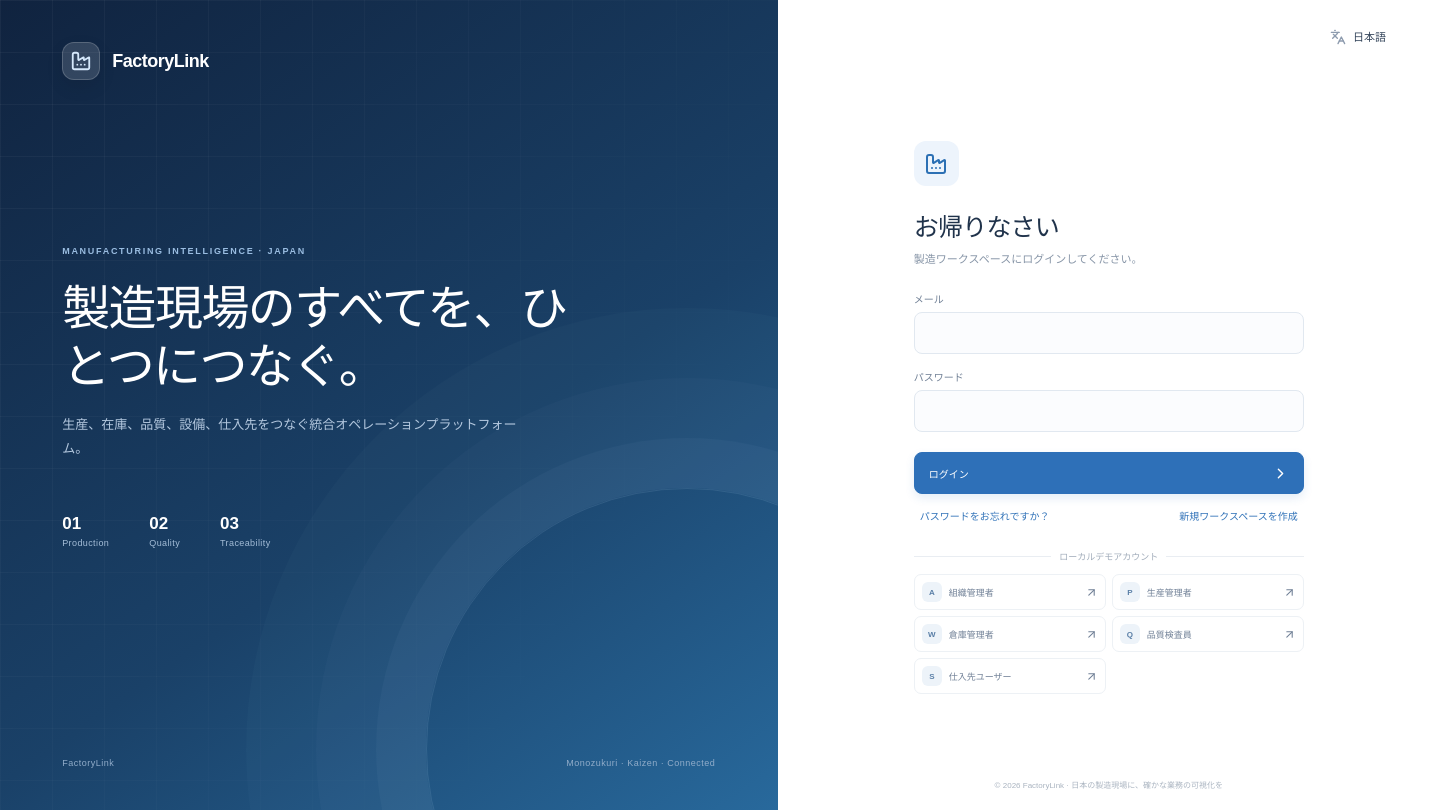
Test: FactoryLink application › shows the server authentication error without entering the application
Select "English" in the dropdown: [1376, 37] box [1353,31,1400,43]
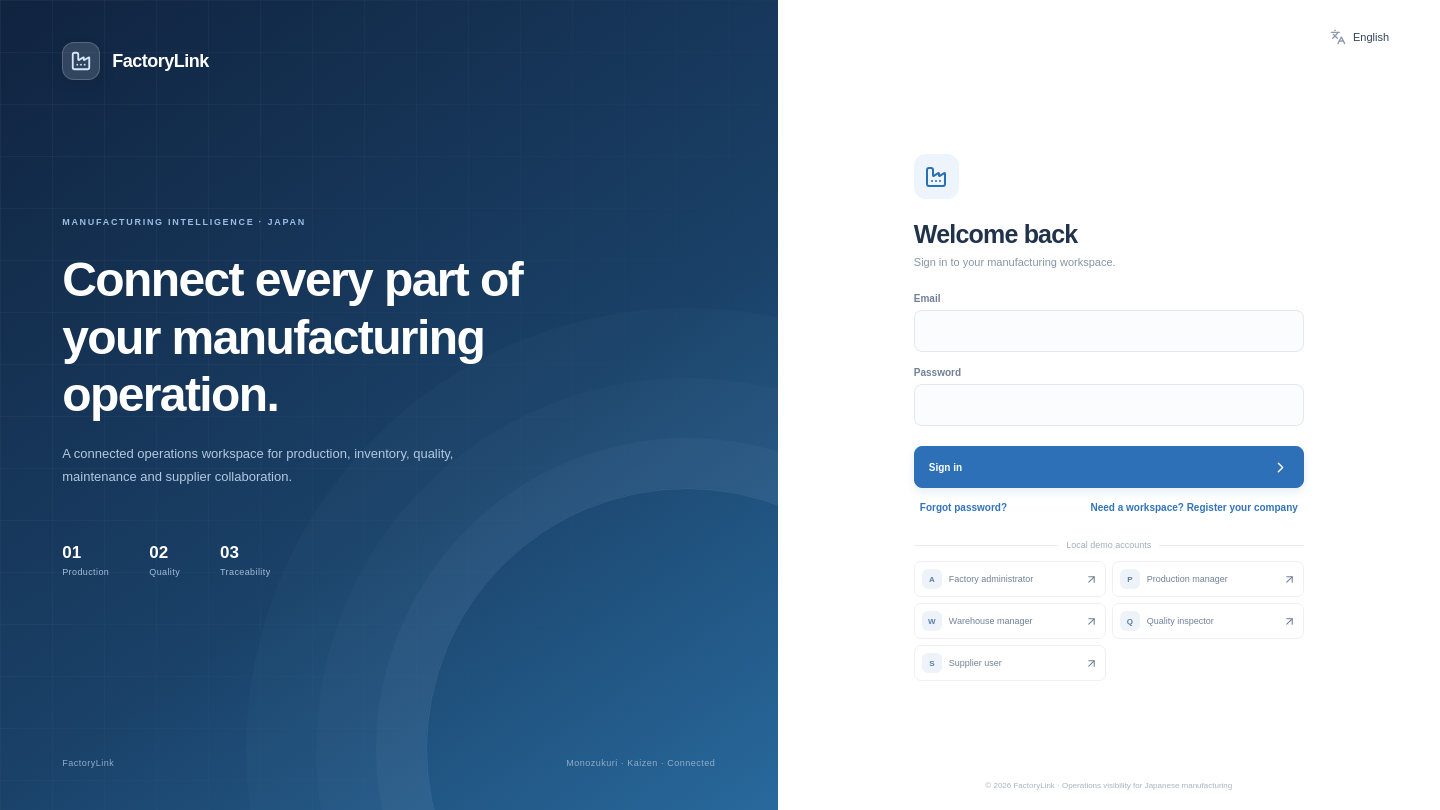
In the field labelled "Email": [1109, 331] box [914,310,1304,352], type "unknown@factorylink.jp"
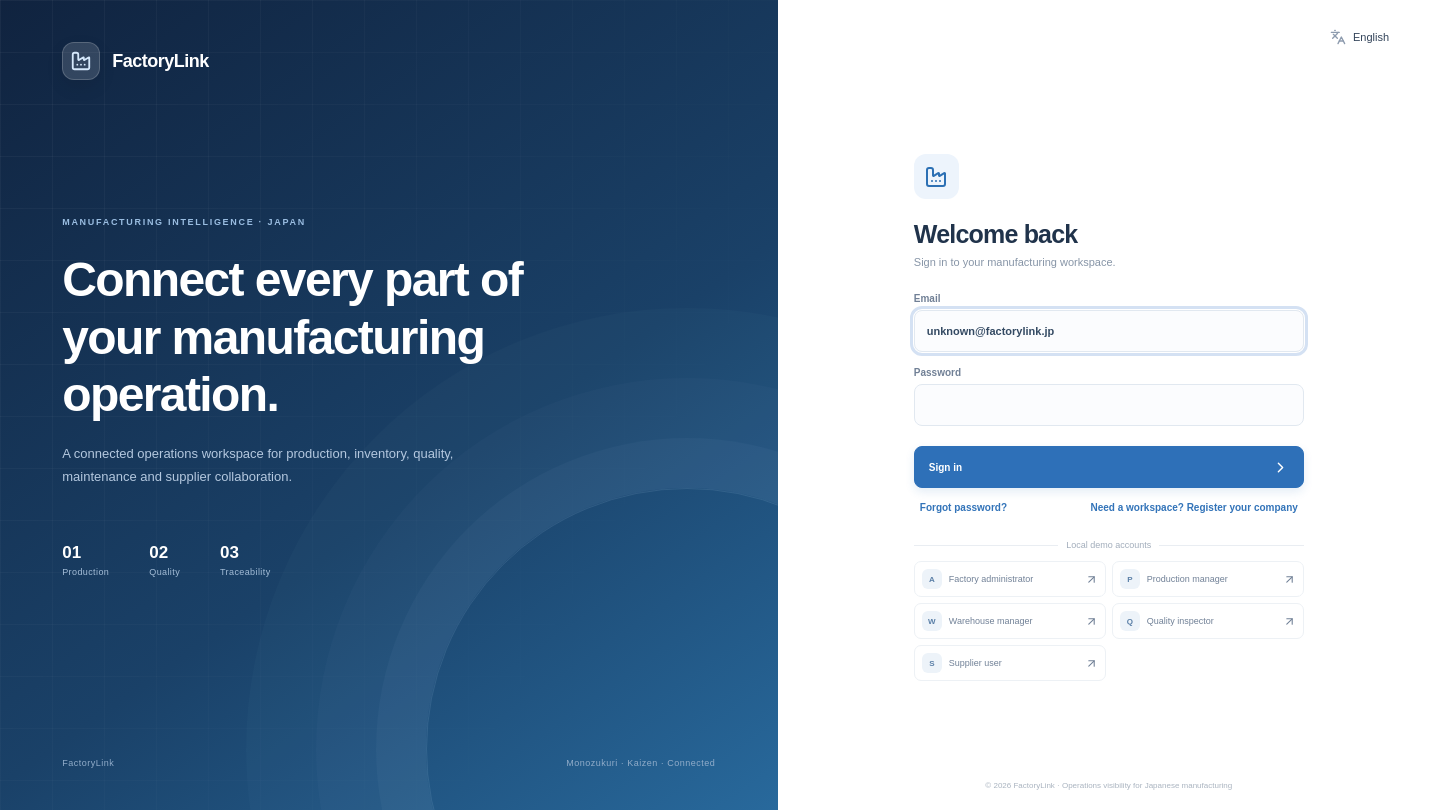
In the password field labelled "Password": [1109, 405] box [914,384,1304,426], type "Wrong-Password-2026!"
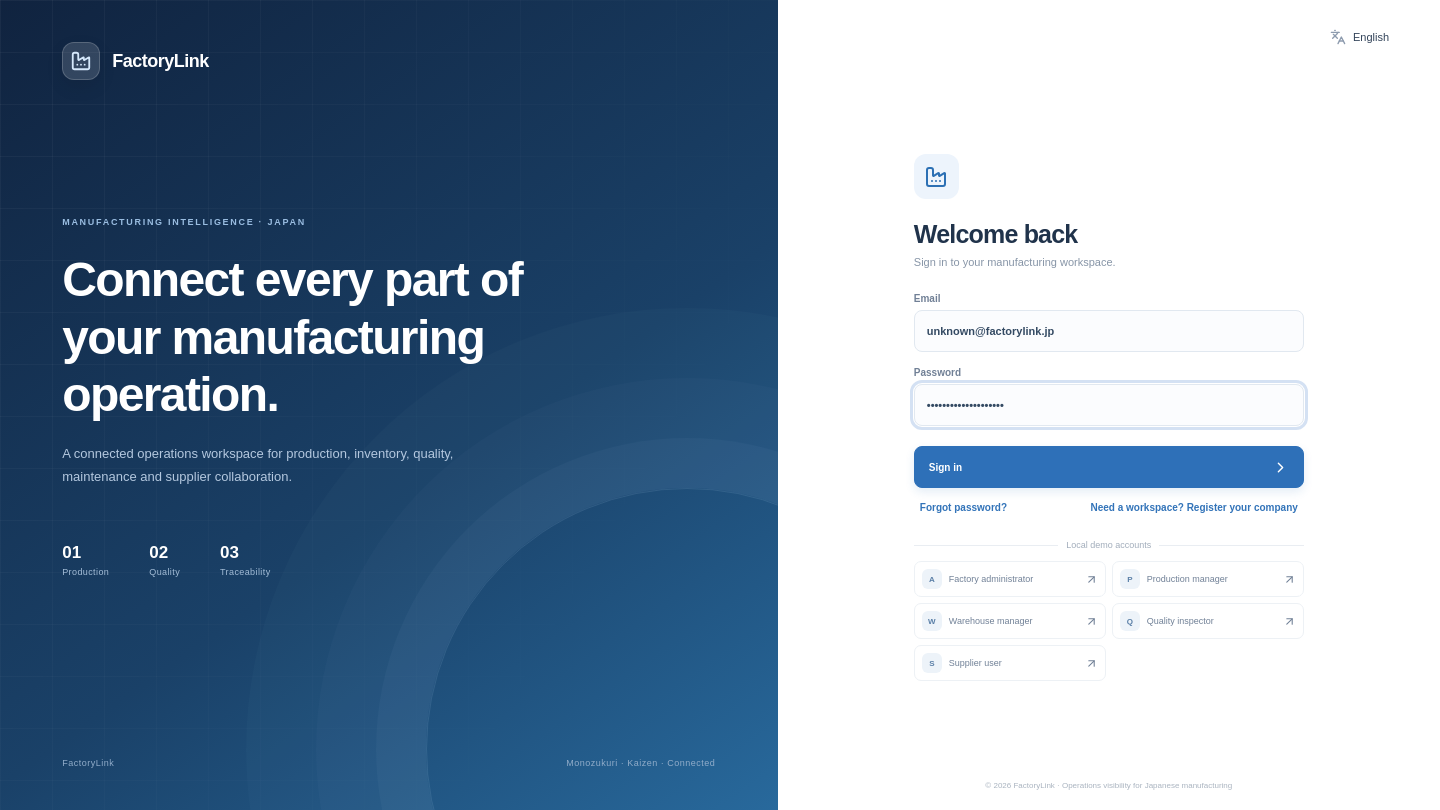
Click the button "Sign in": [945, 467] box [914,446,1304,488]
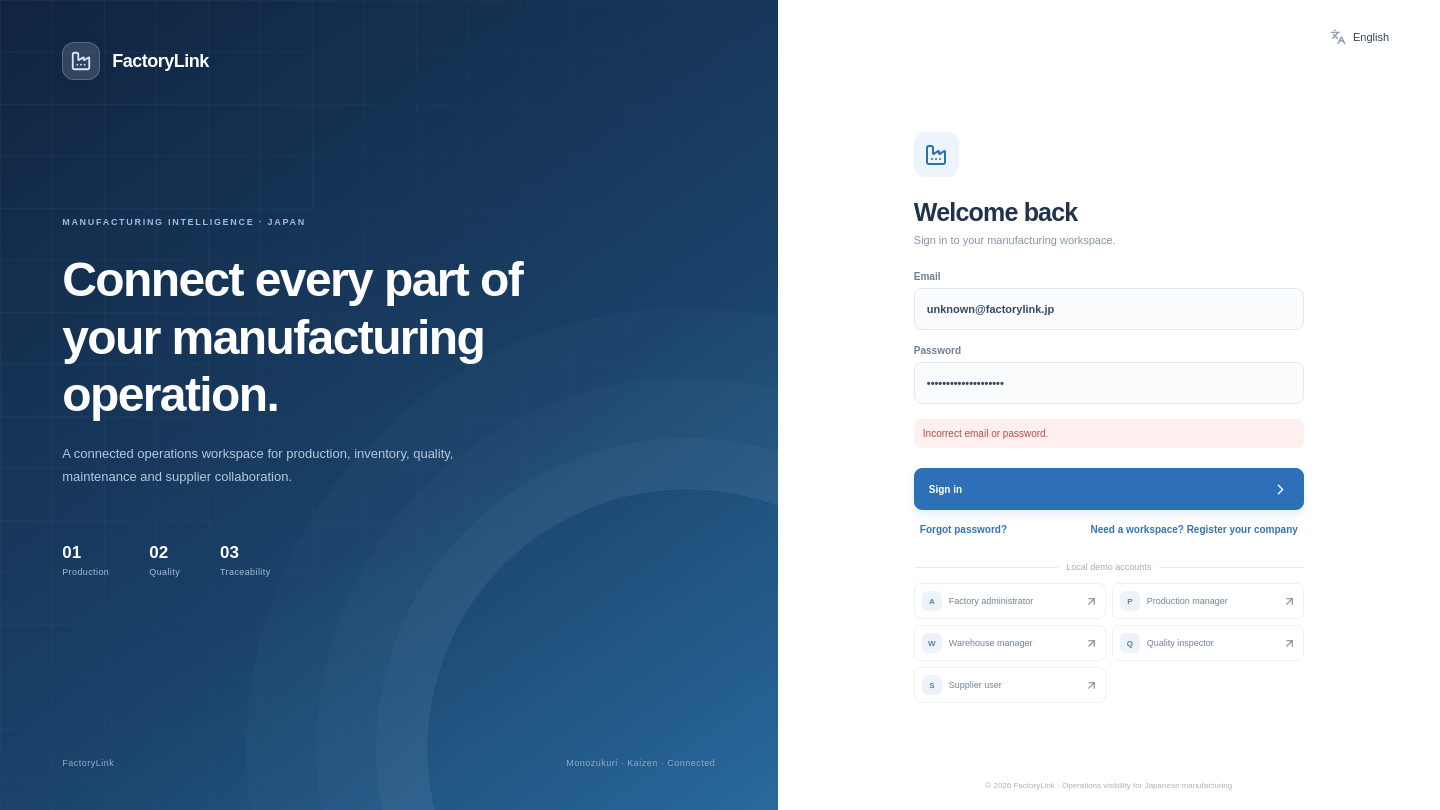
Check: the text "Incorrect email or password." is shown, box [914,419,1304,448]
